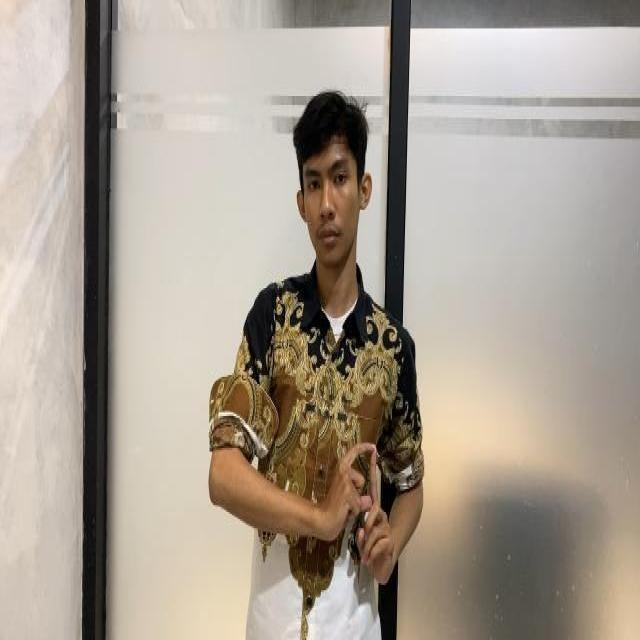D: (328, 428, 400, 552)
